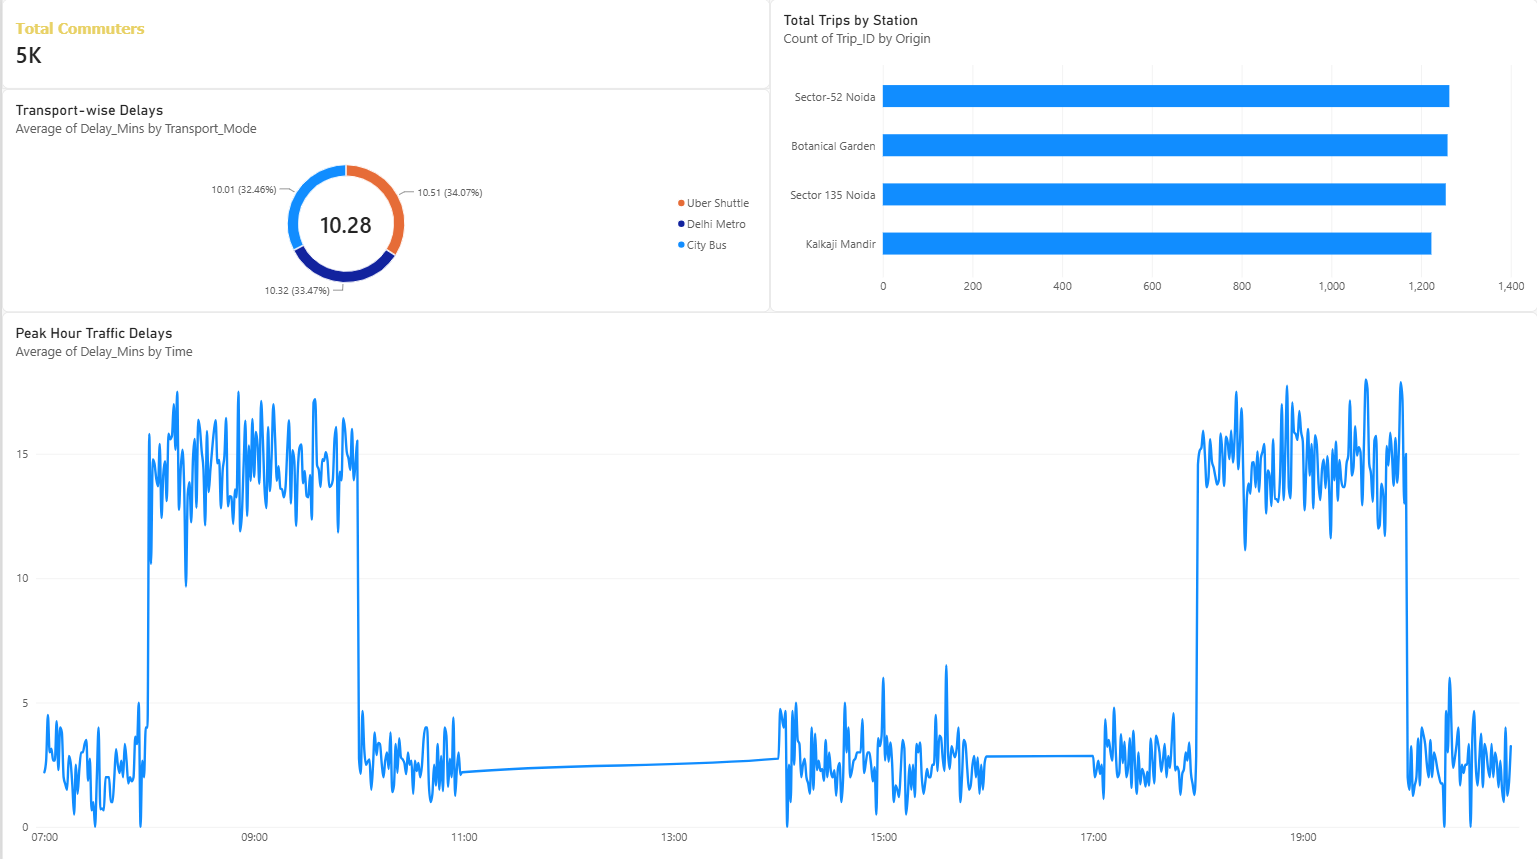

What the dashboard file says about the page in this screenshot:
{"tool":"powerbi","page":{"name":"Page 1","canvas":[1920,1080],"ordinal":0},"visuals":[{"type":"cardVisual","title":"Total Commuters","fields":{"Data":["CountNonNull(ncr_transit_data.Trip_ID)"]},"box":[0,0,960,112.5],"z":0},{"type":"donutChart","title":"Transport-wise Delays","fields":{"Category":["ncr_transit_data.Transport_Mode"],"Y":["Avg(ncr_transit_data.Delay_Mins)"]},"box":[0,112.5,960,278.8],"z":1000},{"type":"clusteredBarChart","title":"Total Trips by Station","fields":{"Category":["ncr_transit_data.Origin"],"Y":["CountNonNull(ncr_transit_data.Trip_ID)"]},"box":[960,0,960,391.2],"z":2000},{"type":"lineChart","title":"Peak Hour Traffic Delays","fields":{"Category":["ncr_transit_data.Time"],"Y":["Avg(ncr_transit_data.Delay_Mins)"]},"box":[0,391.2,1920,688.8],"z":3000}]}

Visuals, with their boxes in screenshot pixels (x1, y1, x2, y2), scaled from the page's 1920x1080 canvas onto the 1537x859 screenshot:
"Total Commuters" cardVisual: [0, 0, 768, 89]
"Transport-wise Delays" donutChart: [0, 89, 768, 311]
"Total Trips by Station" clusteredBarChart: [768, 0, 1536, 311]
"Peak Hour Traffic Delays" lineChart: [0, 311, 1536, 858]
